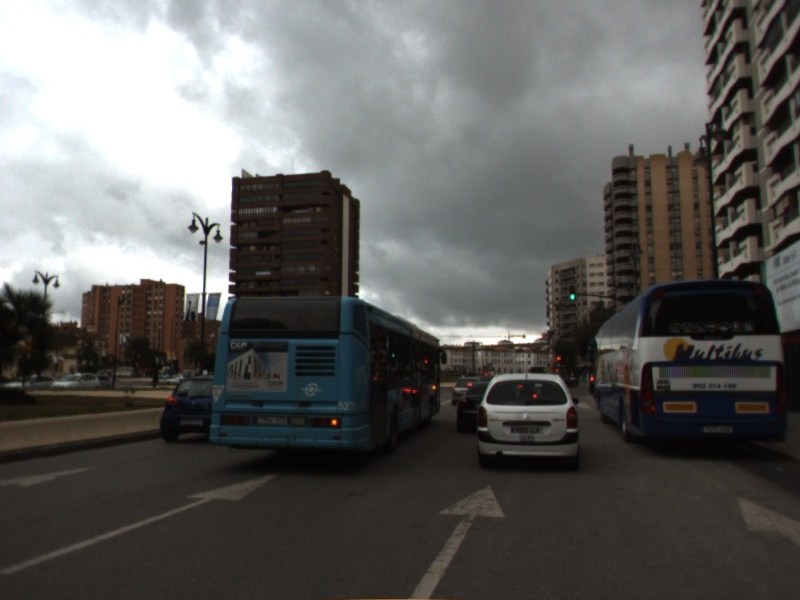STRAIGHT: (1, 468, 288, 577), (402, 481, 511, 600)
